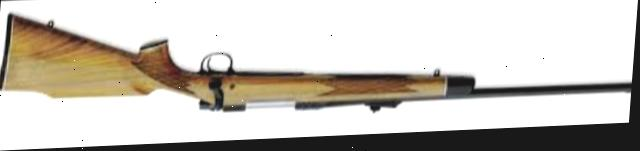rifle: (0, 0, 639, 134)
